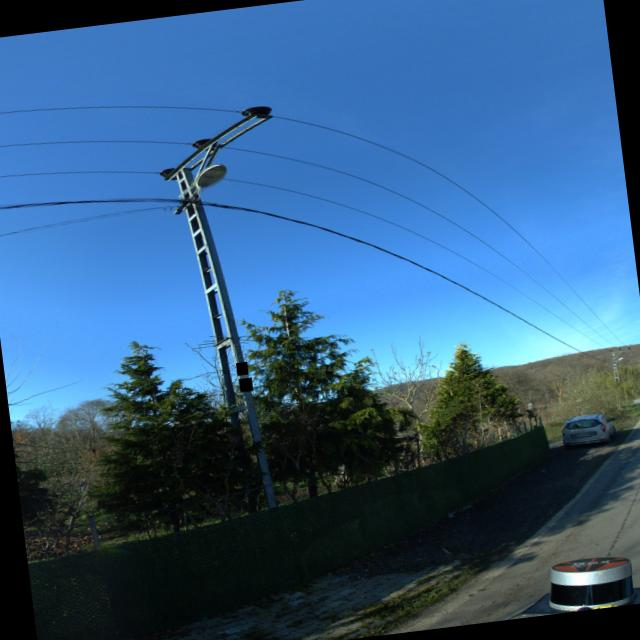Utility Pole Information Plate: (238, 377, 253, 392), (235, 361, 248, 375)
